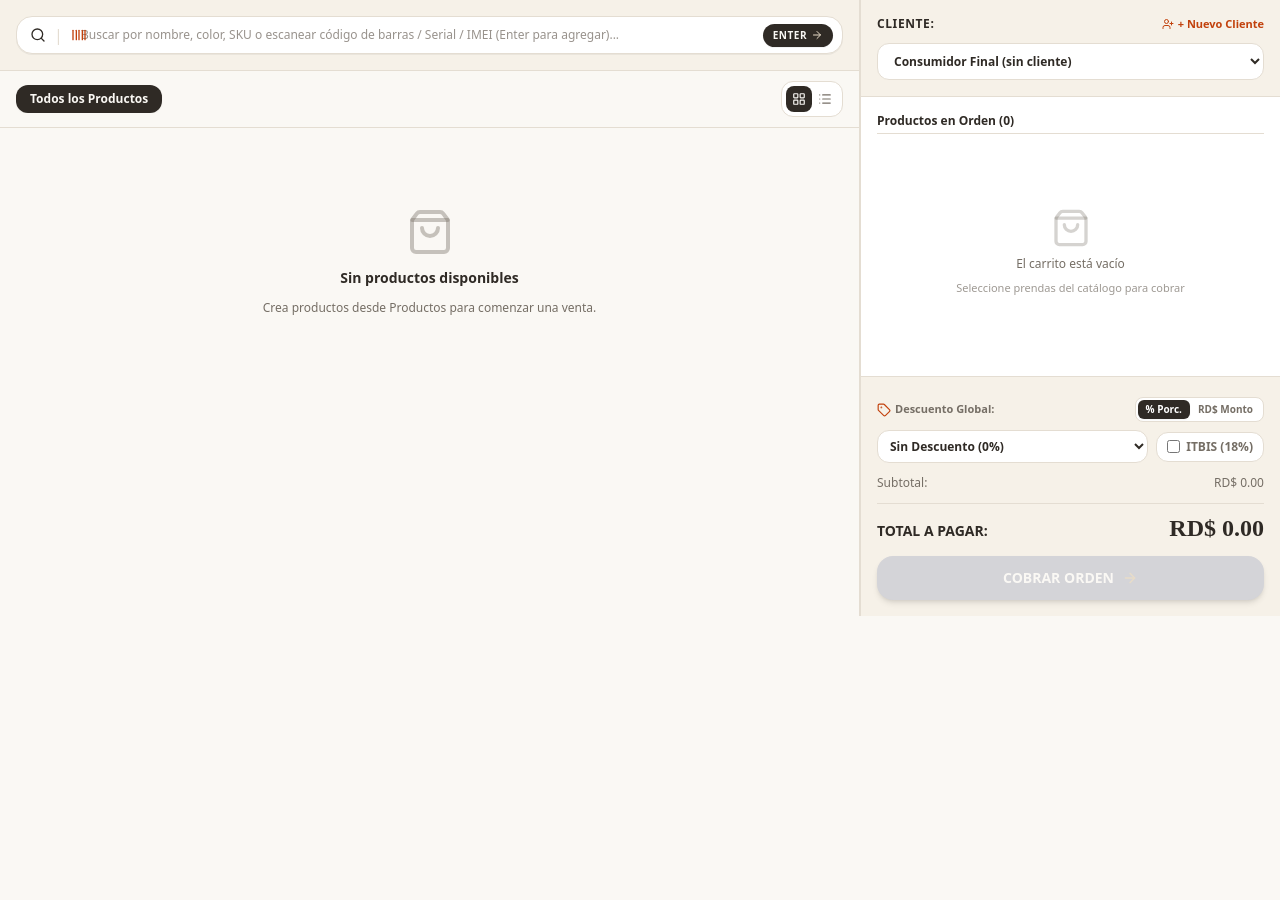
Scenario: POSView -- cliente nuevo queda seleccionado automáticamente › crear dos clientes consecutivamente: cada uno queda seleccionado en su turno
Click the button "+ Nuevo Cliente": (1213, 24) [1162,16,1264,32]
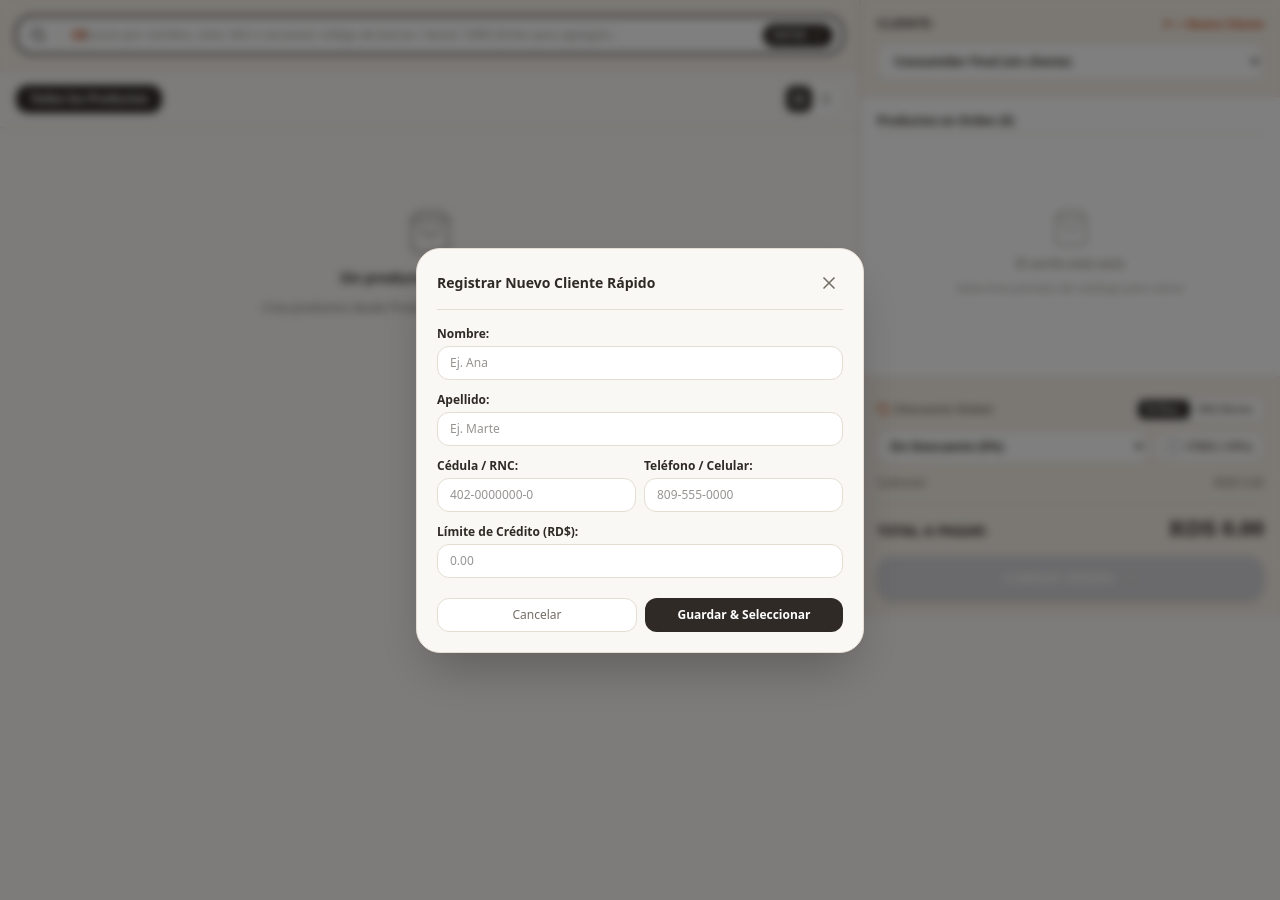
Expected: the heading "Registrar Nuevo Cliente Rápido" is shown, [437,272,655,292]
In the field with placeholder "Ej. Ana": (640, 362) [437,346,843,380], type "Cliente A"
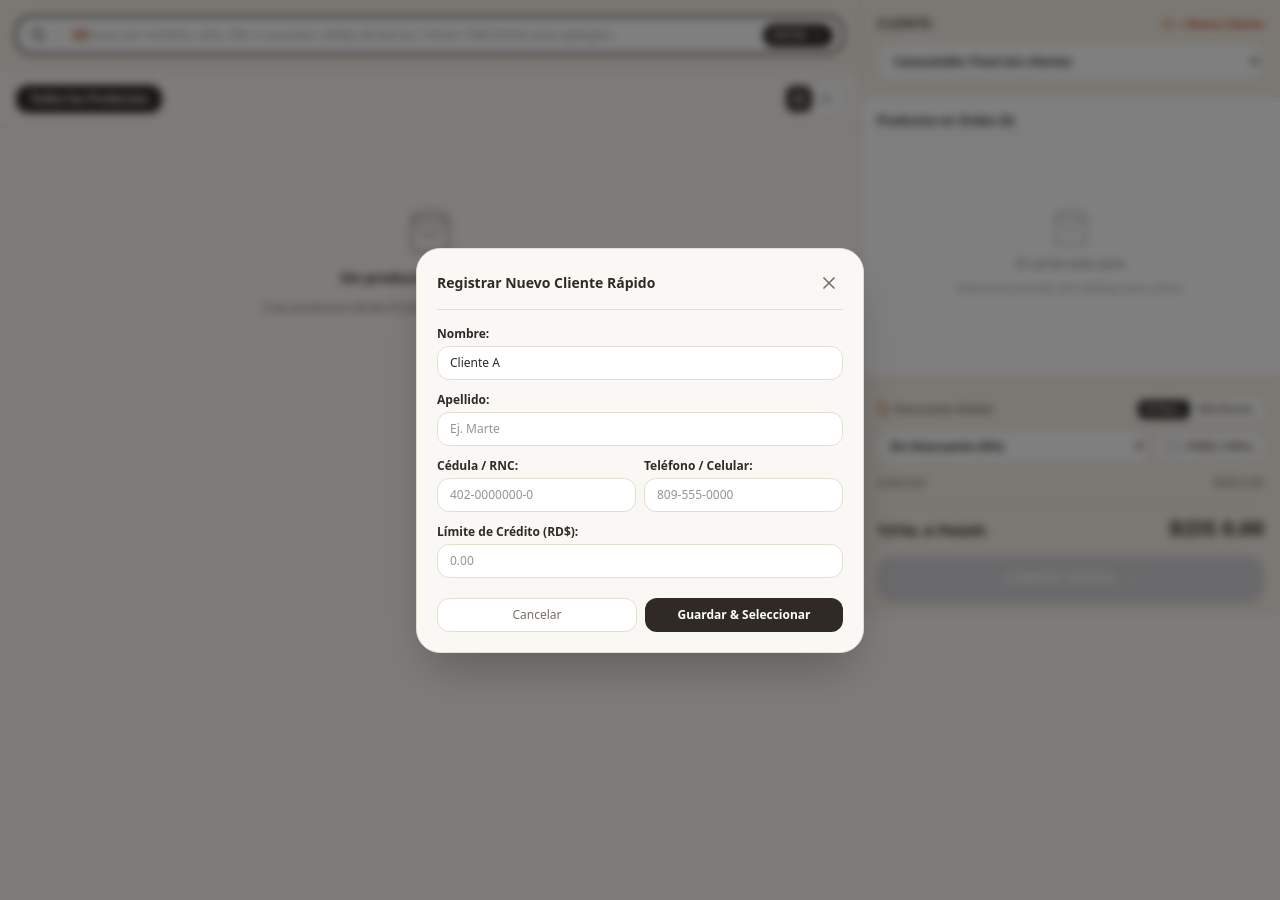
Click the button "Guardar & Seleccionar": (744, 614) [645,598,843,632]
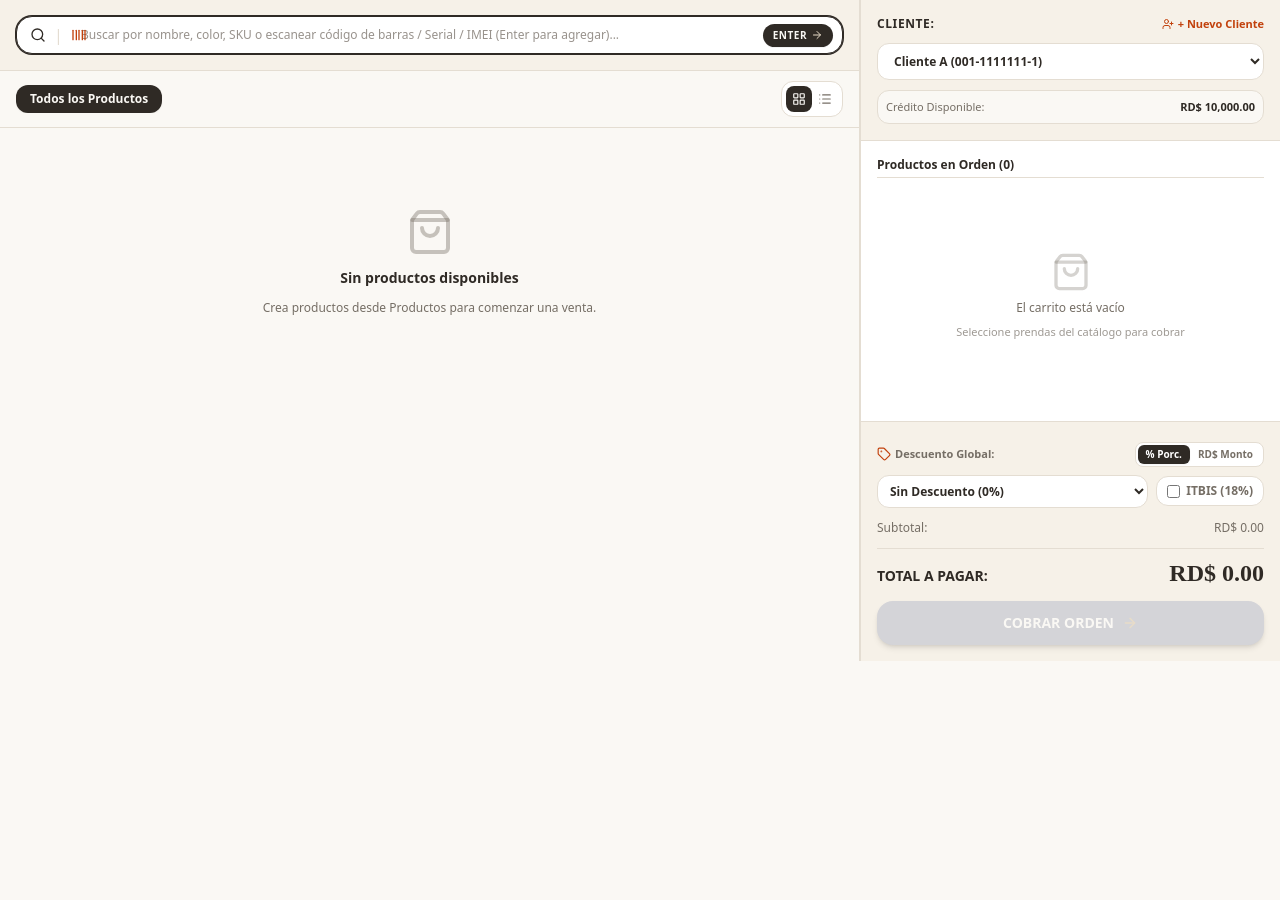
Expected: the dropdown named "Cliente" shows "Cliente A (001-1111111-1)", [877,42,1264,80]
Click the button "+ Nuevo Cliente": (1213, 24) [1162,16,1264,32]
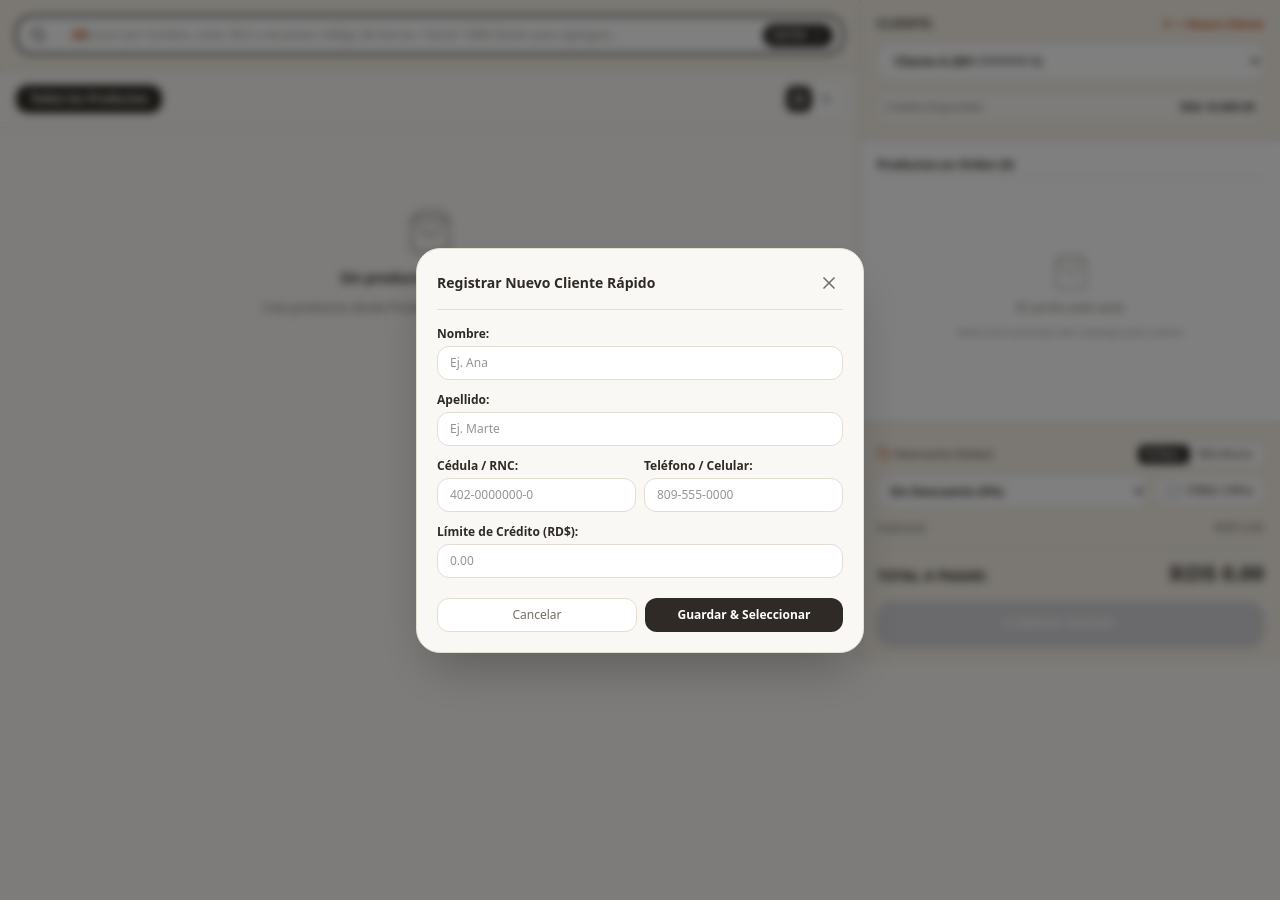
Expected: the heading "Registrar Nuevo Cliente Rápido" is shown, [437,272,655,292]
In the field with placeholder "Ej. Ana": (640, 362) [437,346,843,380], type "Cliente B"
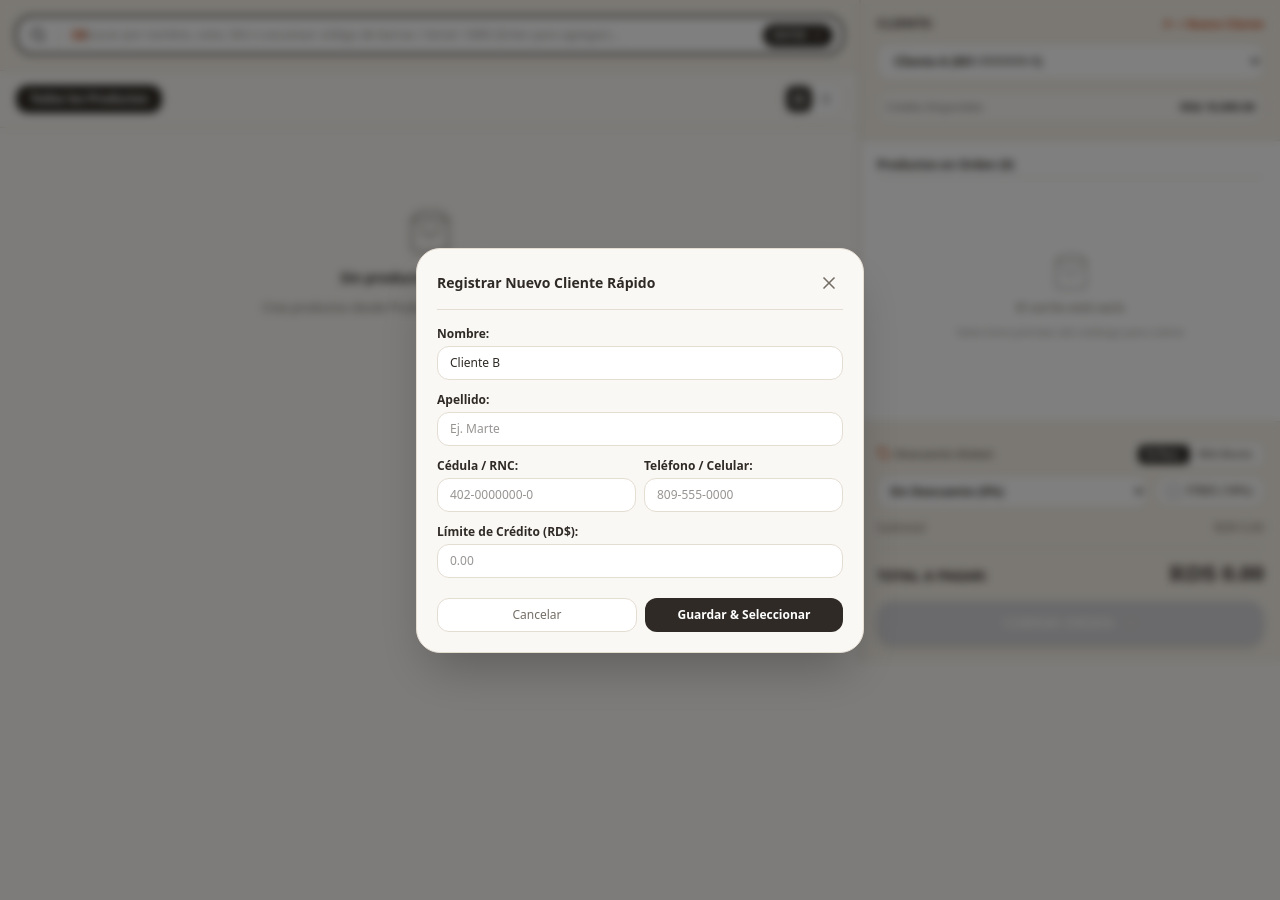
Click the button "Guardar & Seleccionar": (744, 614) [645,598,843,632]
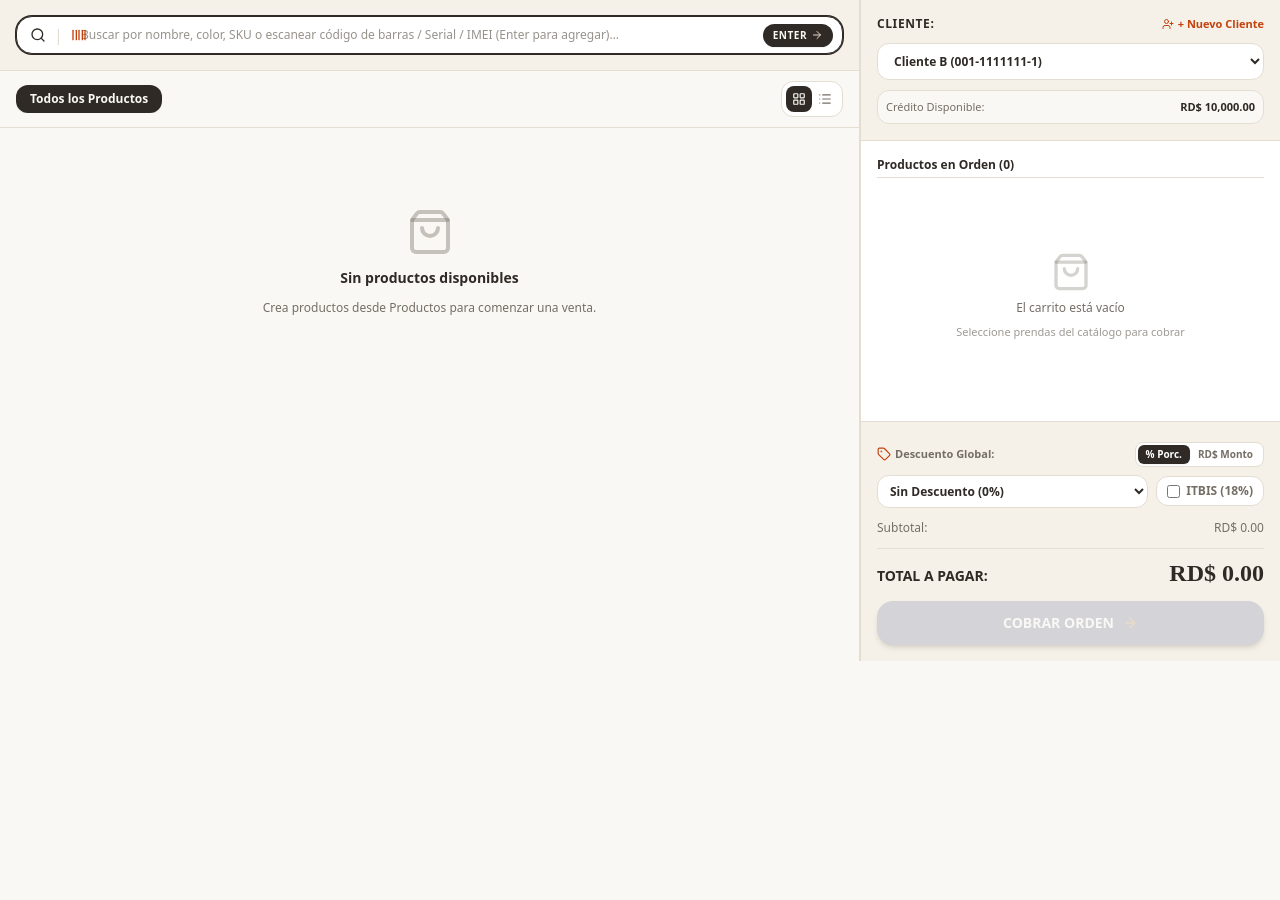
Expected: the dropdown named "Cliente" shows "Cliente B (001-1111111-1)", [877,42,1264,80]
